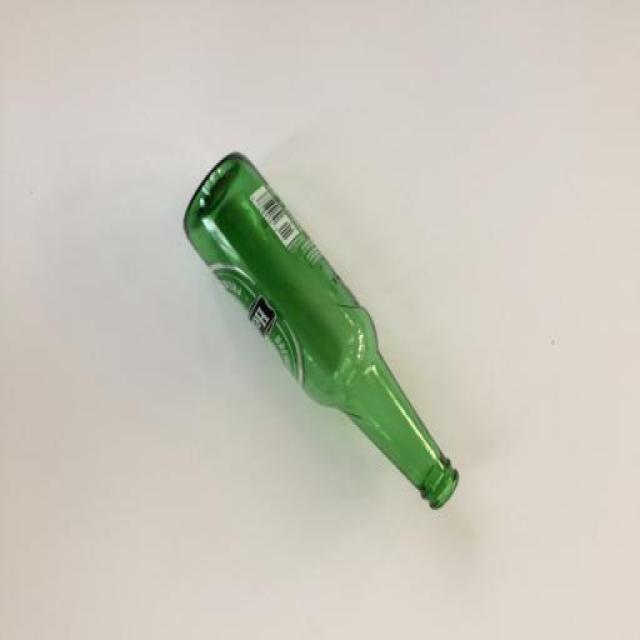glass: (182, 150, 461, 508)
